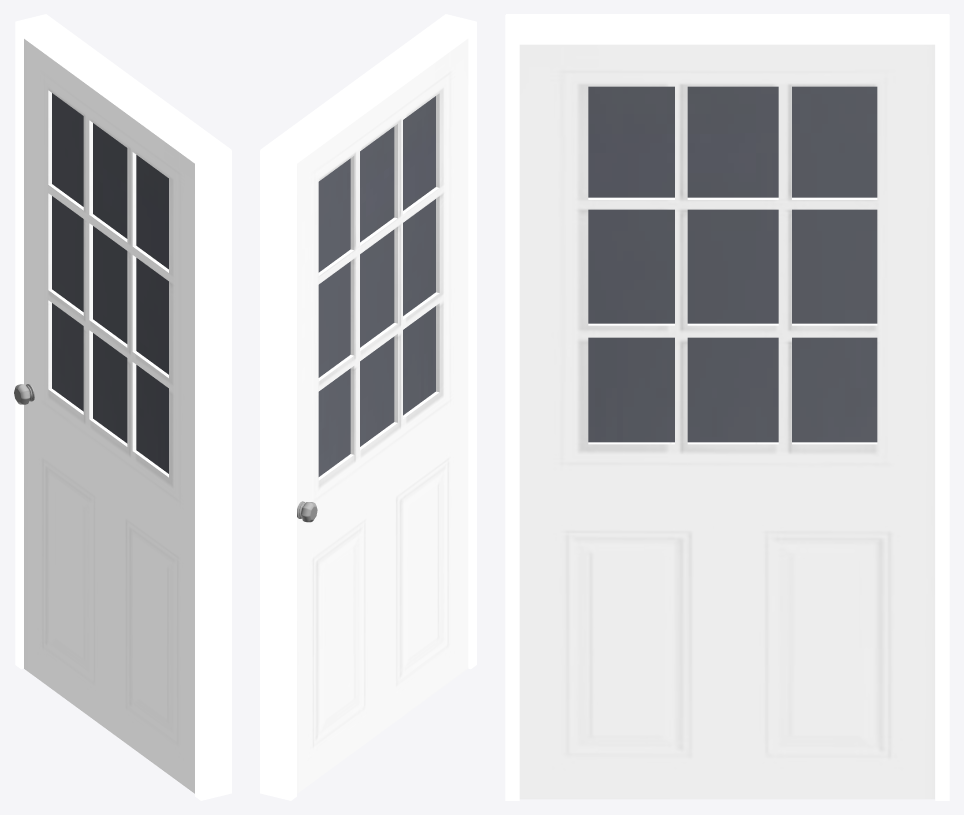
File: 9_lite_l_swing_walkin.48d6d136.gltf
3 views of the same model, side by side, from view 1: azimuth 30°, elevation 25°; view 2: azimuth 150°, elevation 25°; view 3: azimuth 270°, elevation 25° (orthographic). The views are drawn at different scales.
Visible parts, largest first — view 1: door, trims, Glass; view 2: door, trims, Glass; view 3: door, Glass, trims.
Part boxes in pixels (x1=…): door: x1=24, y1=39, x2=194, y2=793; trims: x1=15, y1=14, x2=231, y2=800; Glass: x1=52, y1=93, x2=168, y2=473; door: x1=297, y1=39, x2=468, y2=793; trims: x1=260, y1=14, x2=476, y2=800; Glass: x1=318, y1=96, x2=435, y2=476; door: x1=519, y1=44, x2=934, y2=799; Glass: x1=588, y1=86, x2=877, y2=442; trims: x1=505, y1=14, x2=949, y2=800.
Bounding box in the file's own units: 0.4023 × 6.01 × 3.14.
4 materials, 2 textured.
